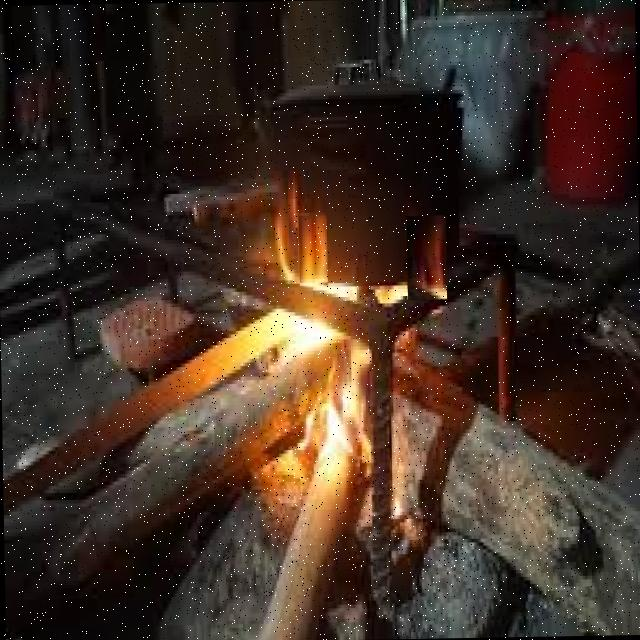fire: (242, 177, 290, 288), (406, 214, 447, 300), (298, 216, 328, 286)
